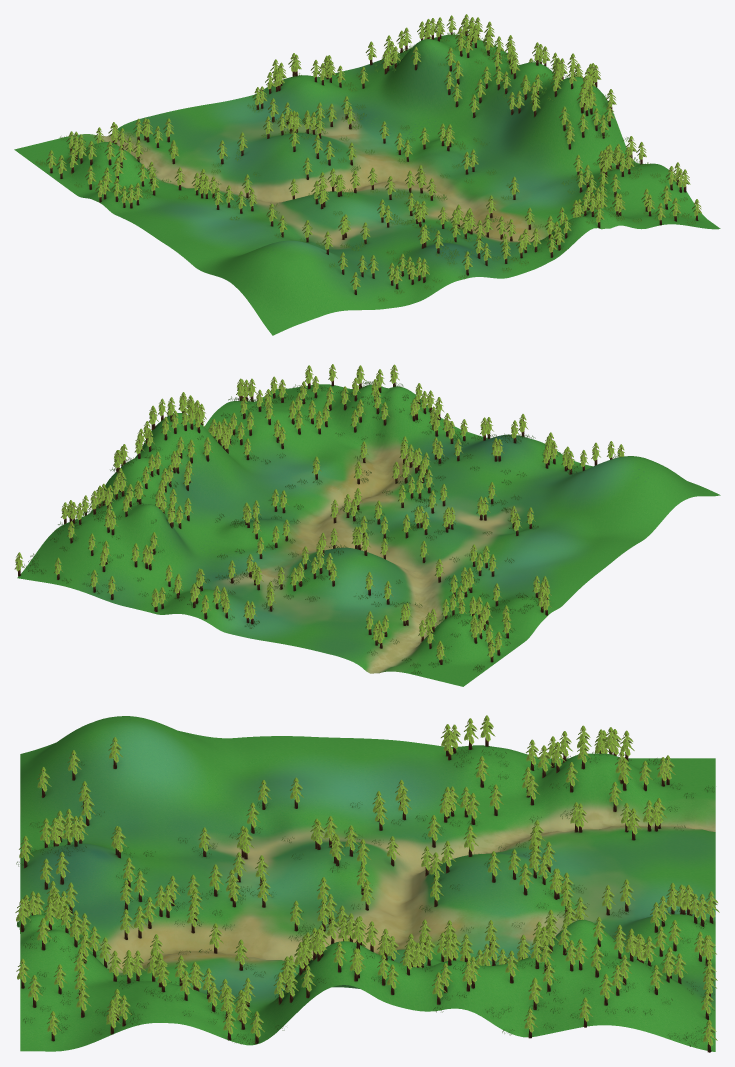
File: MAP_RESIZED.gltf
3 renders of one model, top to bottom at view 1: azimuth 30°, elevation 25°; view 2: azimuth 150°, elevation 25°; view 3: azimuth 270°, elevation 25°, orthographic. The views are drawn at different scales.
Parts seen in each view (by area): view 1: SOL.001; view 2: SOL.001; view 3: SOL.001.
Part boxes in pixels (left/top/right/bottom): SOL.001: left=14, top=34, right=720, bottom=335; SOL.001: left=17, top=384, right=720, bottom=686; SOL.001: left=17, top=716, right=715, bottom=1051.
Bounding box in the file's own units: 113 × 23.57 × 113.
4 materials, 2 textured.
